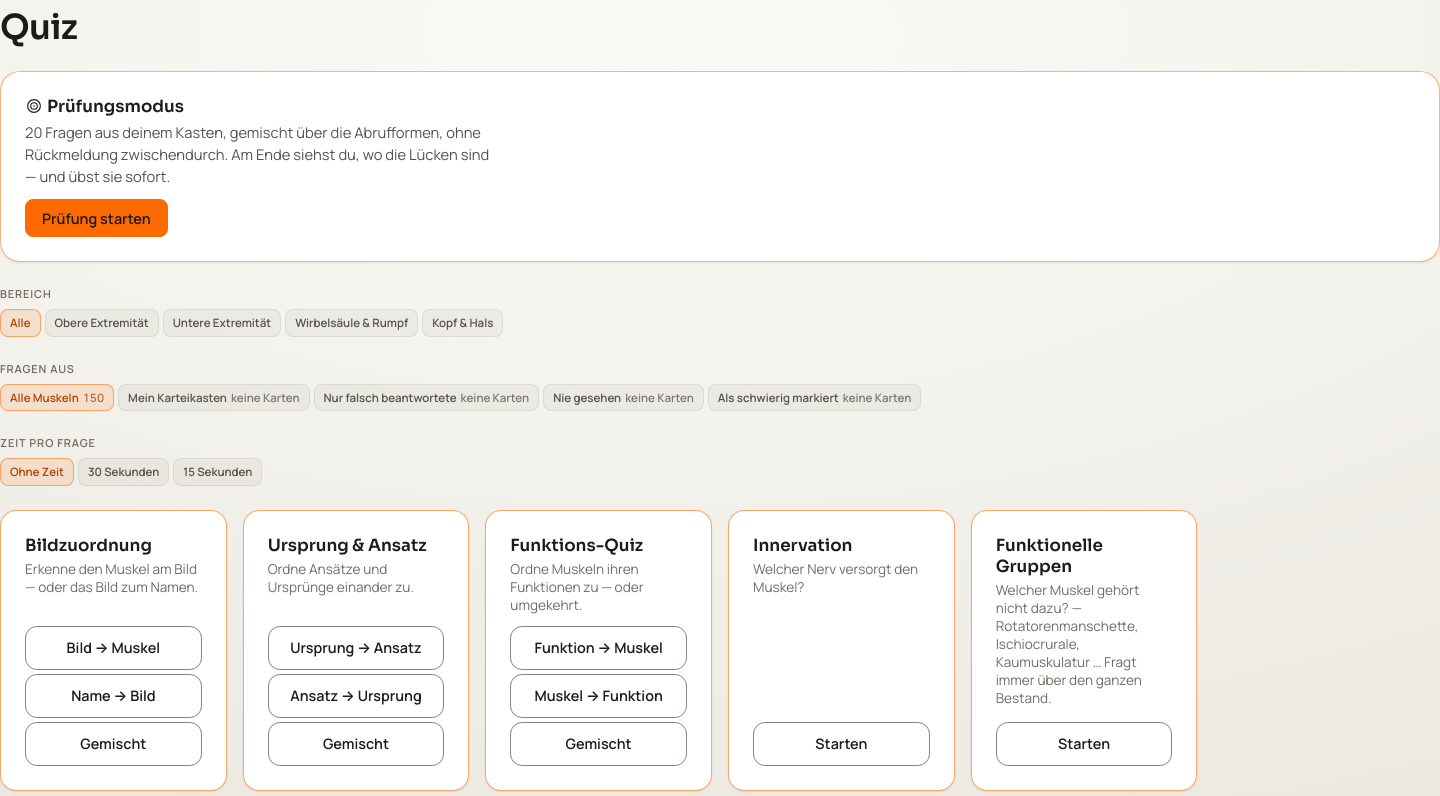
Test case: Zeitdruck im Quiz (Etappe 11) › LÄUFT DIE ZEIT AB, zählt die Frage als falsch — aber sagt NICHT „falsch geklickt"
The width and height of the screenshot is (1440, 796).
Click the button "15 Sekunden". click: [218, 472]
box: [173, 458, 262, 486]
(page scrolled)
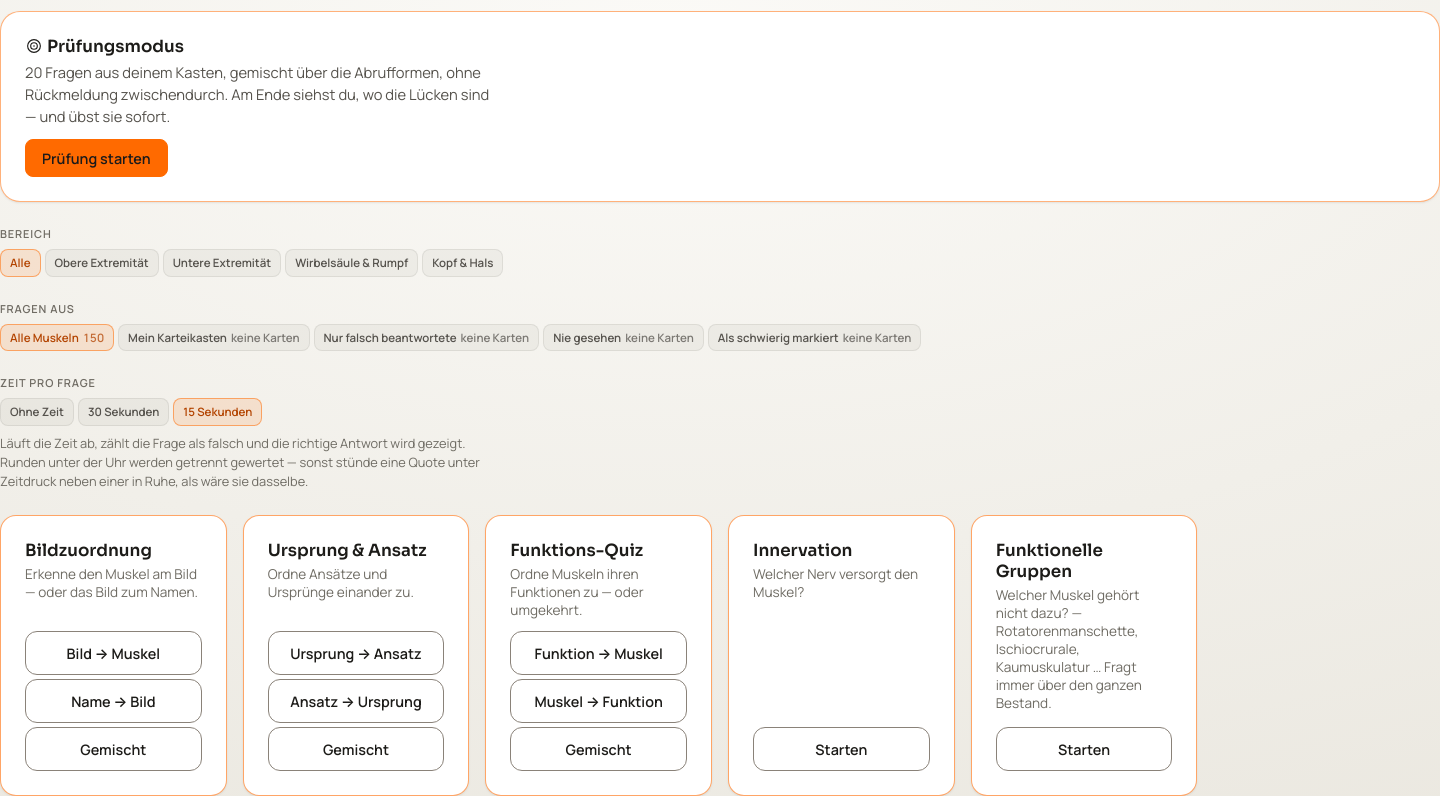
Click the button "Starten" below "Funktionelle Gruppen". click: [1084, 749]
box: [996, 727, 1172, 771]
Wait 16000 ms
(page scrolled)
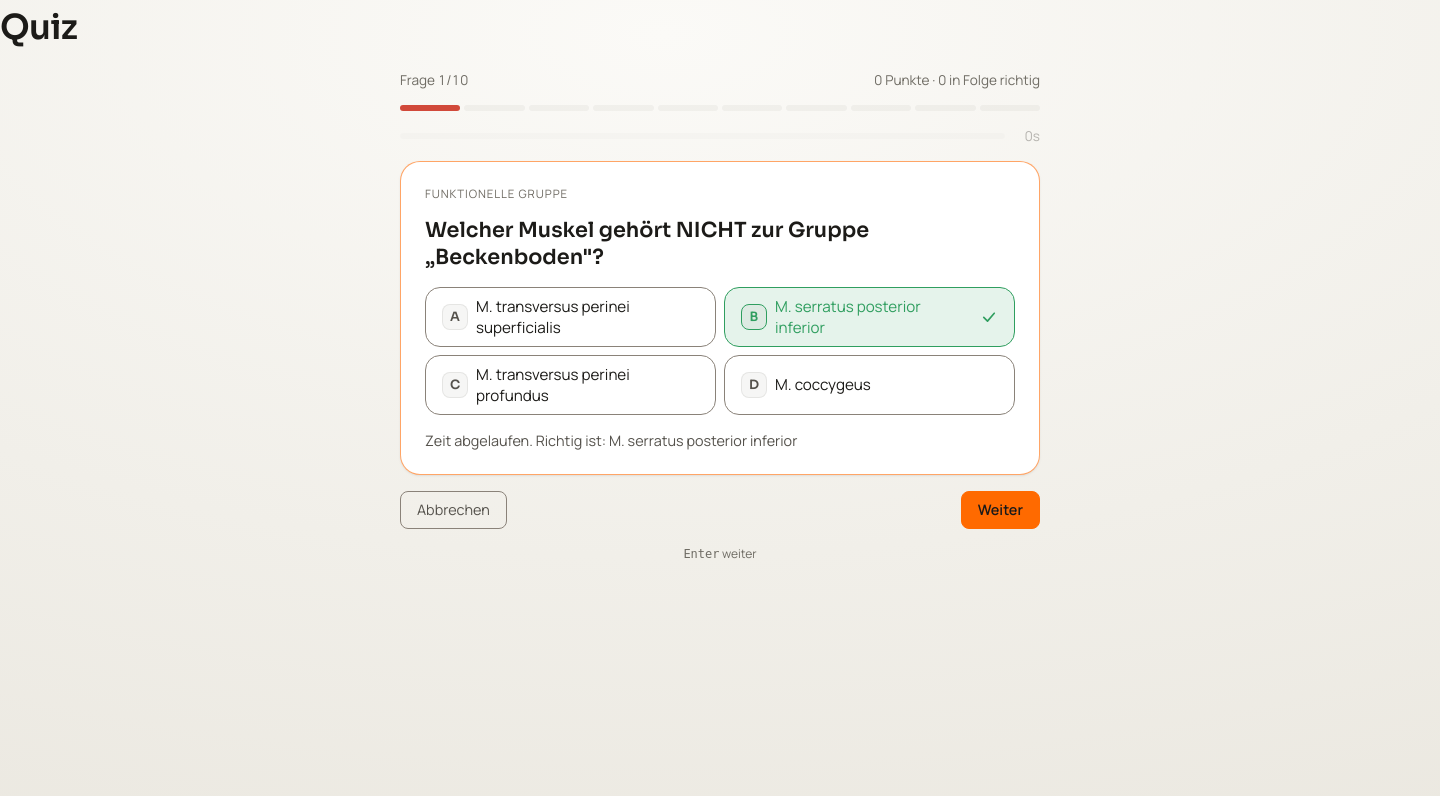
Expected: the text "Zeit abgelaufen. Richtig ist: M. serratus posterior inferior" is shown, [425, 431, 797, 450]
Expected: the radio button labelled "B M. serratus posterior inferior" is shown, [724, 287, 1015, 347]
Expected: the text "0 Punkte · 0 in Folge richtig" is shown, [874, 71, 1040, 89]
